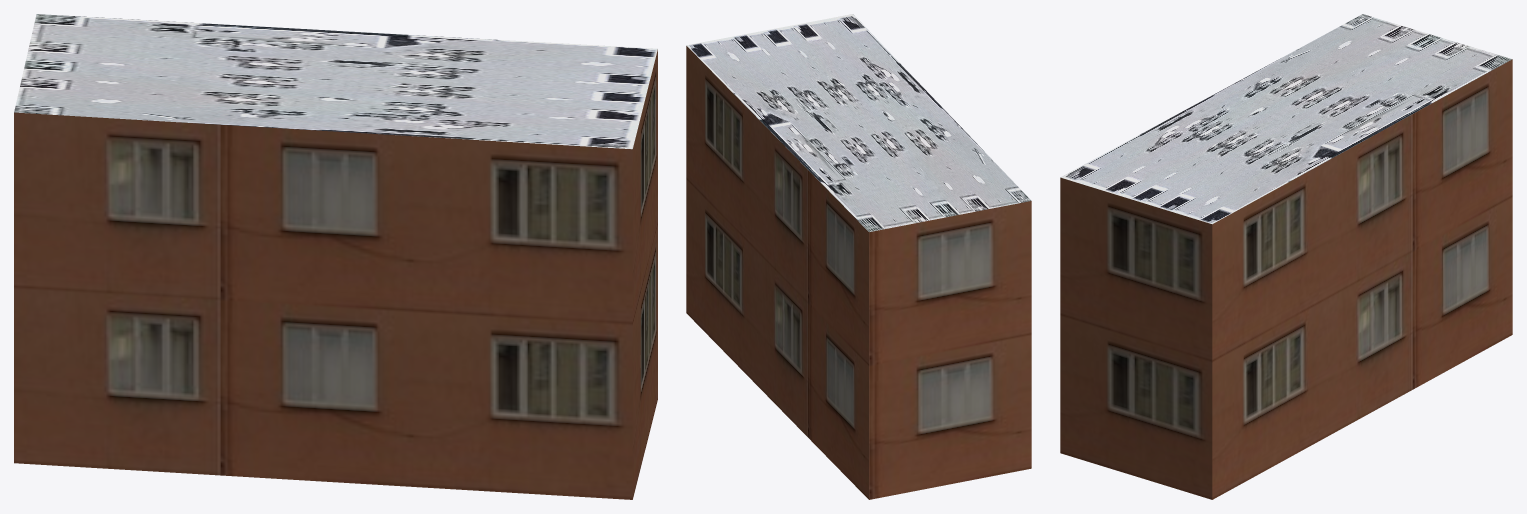
The model's file is ResTex__2096.fbx.
3 views of the same model, side by side, from view 1: azimuth 30°, elevation 25°; view 2: azimuth 150°, elevation 25°; view 3: azimuth 270°, elevation 25° (orthographic). The views are drawn at different scales.
Visible parts, largest first — view 1: CityEngineMaterial_20_m, CityEngineMaterial_8_m; view 2: CityEngineMaterial_20_m, CityEngineMaterial_8_m; view 3: CityEngineMaterial_20_m, CityEngineMaterial_8_m.
Part boxes in pixels (<box>): CityEngineMaterial_20_m: <box>14,49,657,499</box>; CityEngineMaterial_8_m: <box>14,14,657,149</box>; CityEngineMaterial_20_m: <box>686,46,1031,499</box>; CityEngineMaterial_8_m: <box>686,14,1031,231</box>; CityEngineMaterial_20_m: <box>1060,59,1512,499</box>; CityEngineMaterial_8_m: <box>1060,14,1512,224</box>.
Bounding box in the file's own units: 9.82 × 6 × 8.92.
2 materials, 2 textured.
